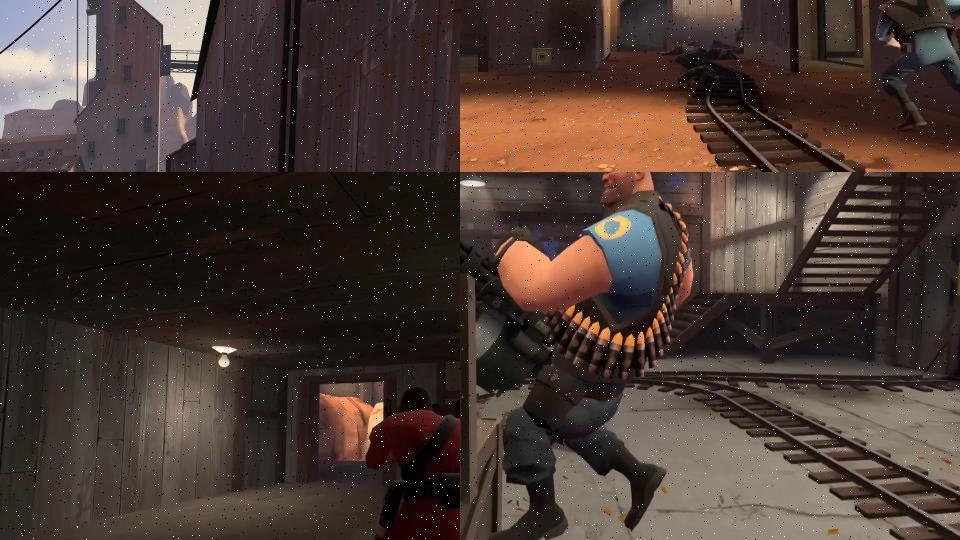Enemy: (460, 172, 701, 540), (359, 369, 460, 540), (873, 0, 960, 160)
